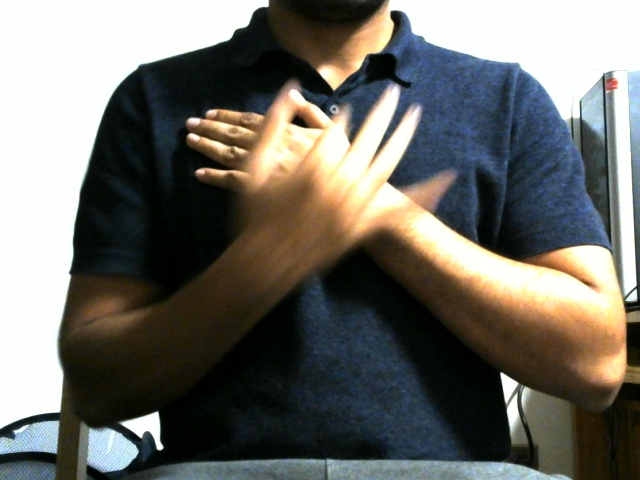blood: (157, 55, 492, 286)
